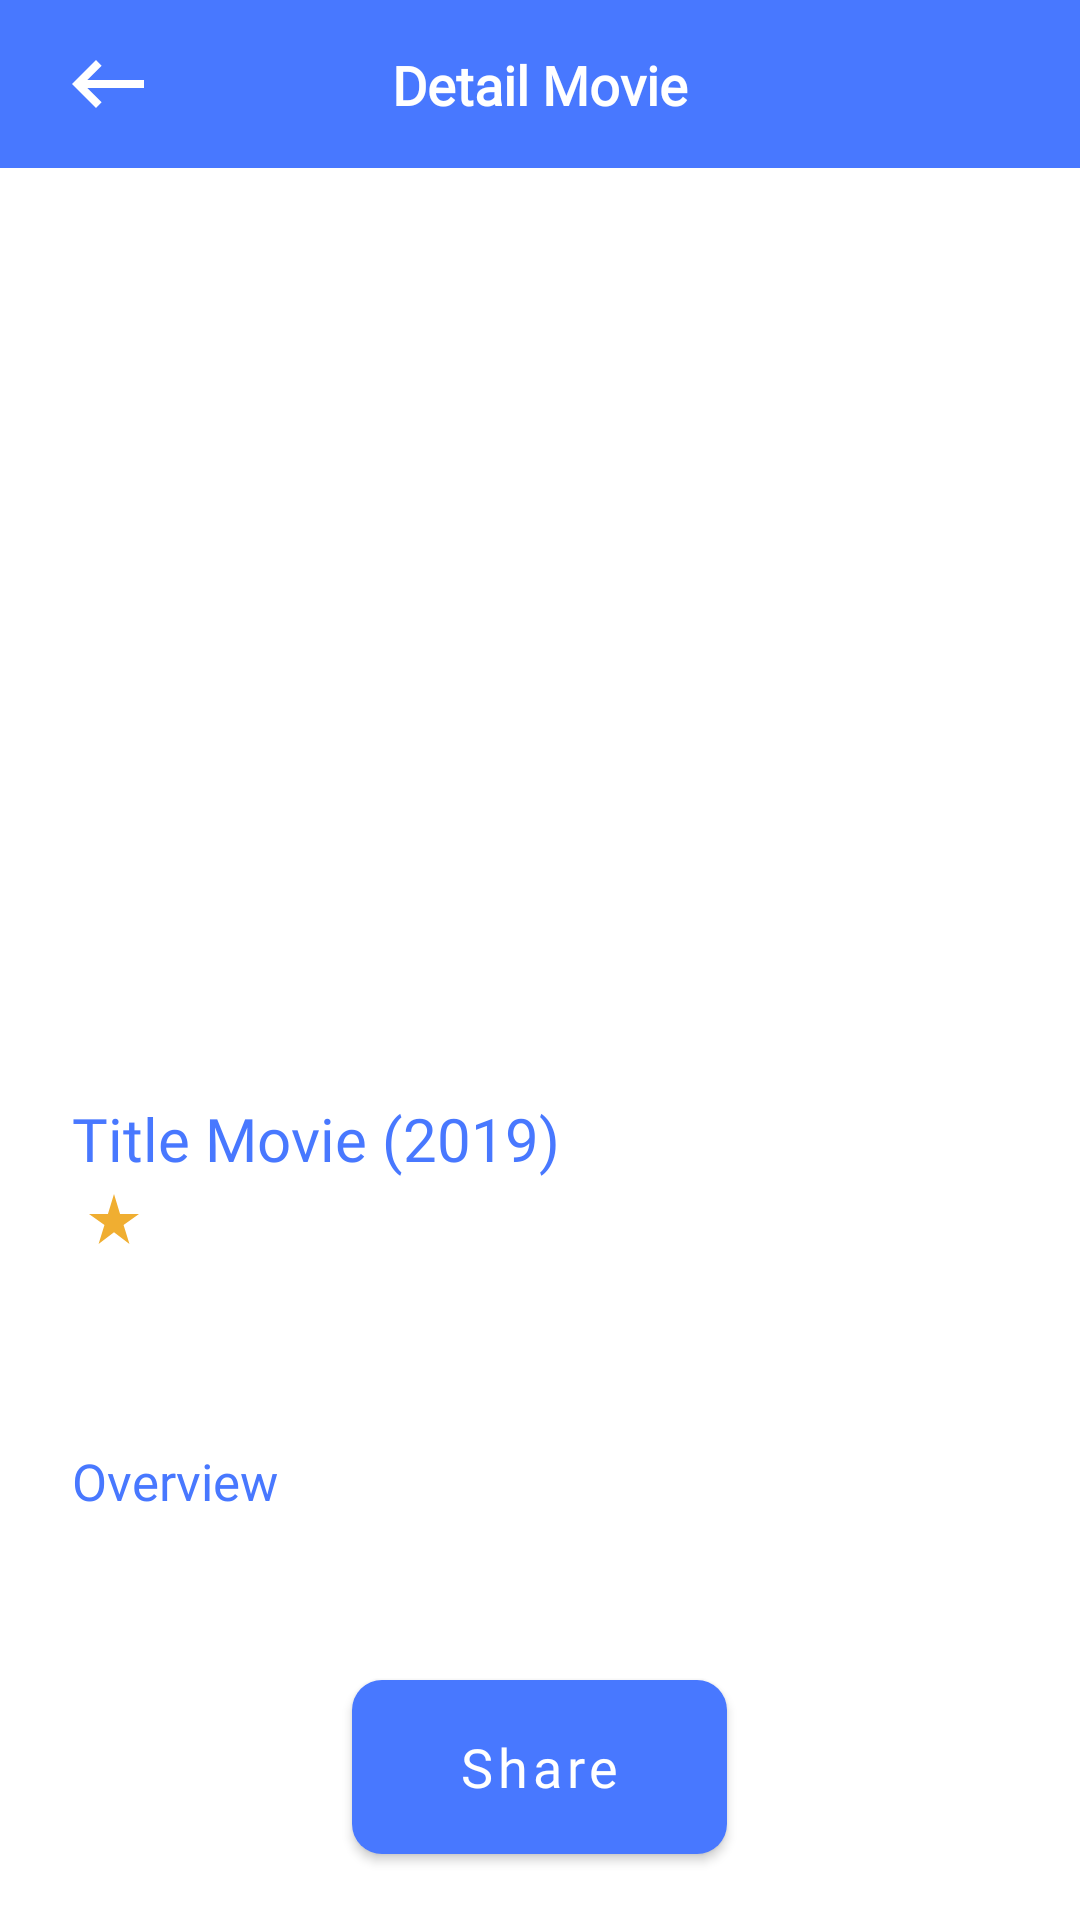

Point at icon controls on the screen. Image size 1080 × 1920, points as point (x, y).
rating: point (114, 1219)
